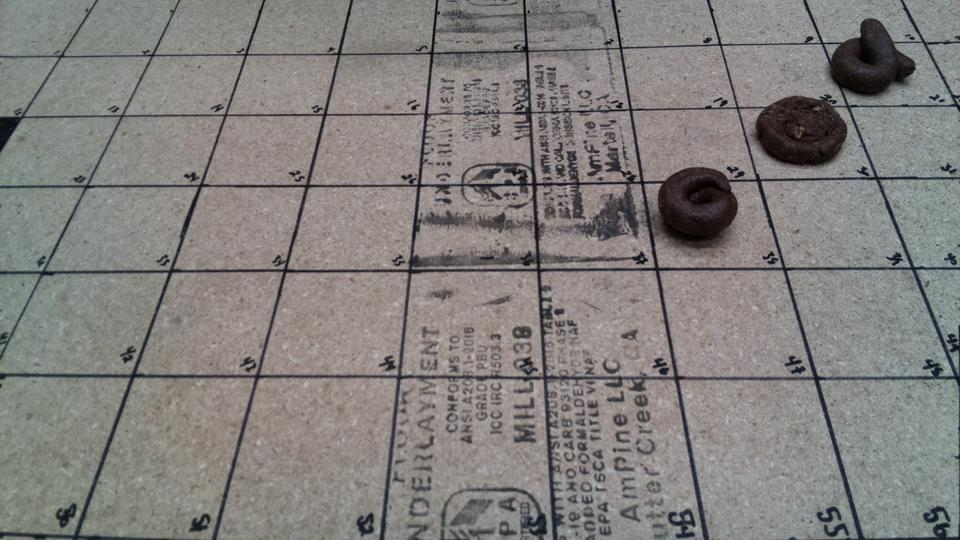poop: (829, 16, 915, 96), (654, 166, 739, 246), (756, 97, 845, 166)
